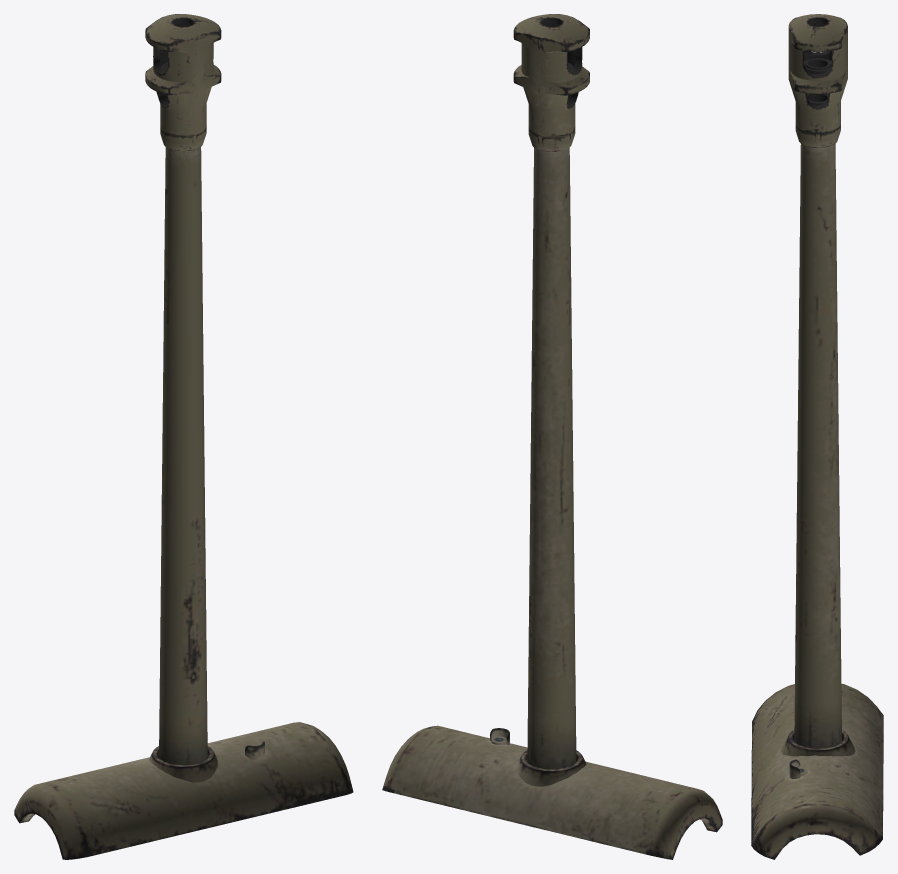
Rendered from Gun_01.glb.
The picture shows the model from 3 angles, left to right: view 1: azimuth 30°, elevation 25°; view 2: azimuth 150°, elevation 25°; view 3: azimuth 270°, elevation 25°; orthographic projection. The views are drawn at different scales.
Parts seen in each view (by area): view 1: set_0_group_0; view 2: set_0_group_0; view 3: set_0_group_0.
Boxes of the visible parts, left/top/right/bottom form: set_0_group_0: left=14, top=14, right=353, bottom=859; set_0_group_0: left=382, top=14, right=722, bottom=859; set_0_group_0: left=751, top=14, right=883, bottom=859.
Bounding box in the file's own units: 1.25 × 3.28 × 0.5125.
1 material, 1 textured.
